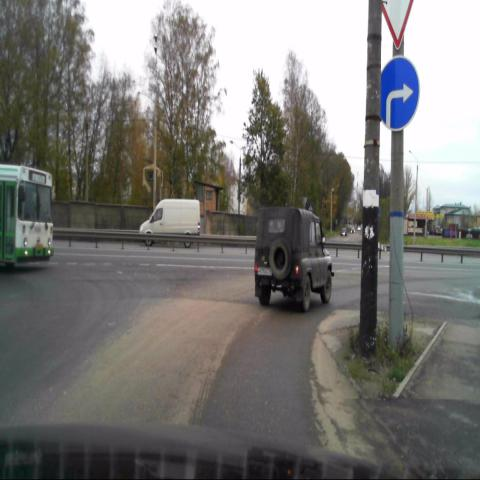4_1_2: (376, 56, 420, 130)
